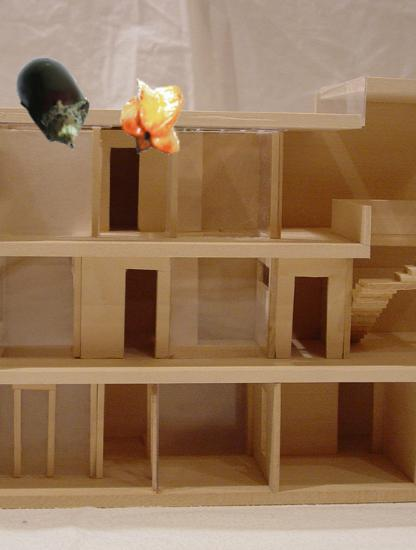Carambula: (111, 75, 195, 159)
Eggplant: (6, 53, 106, 153)
